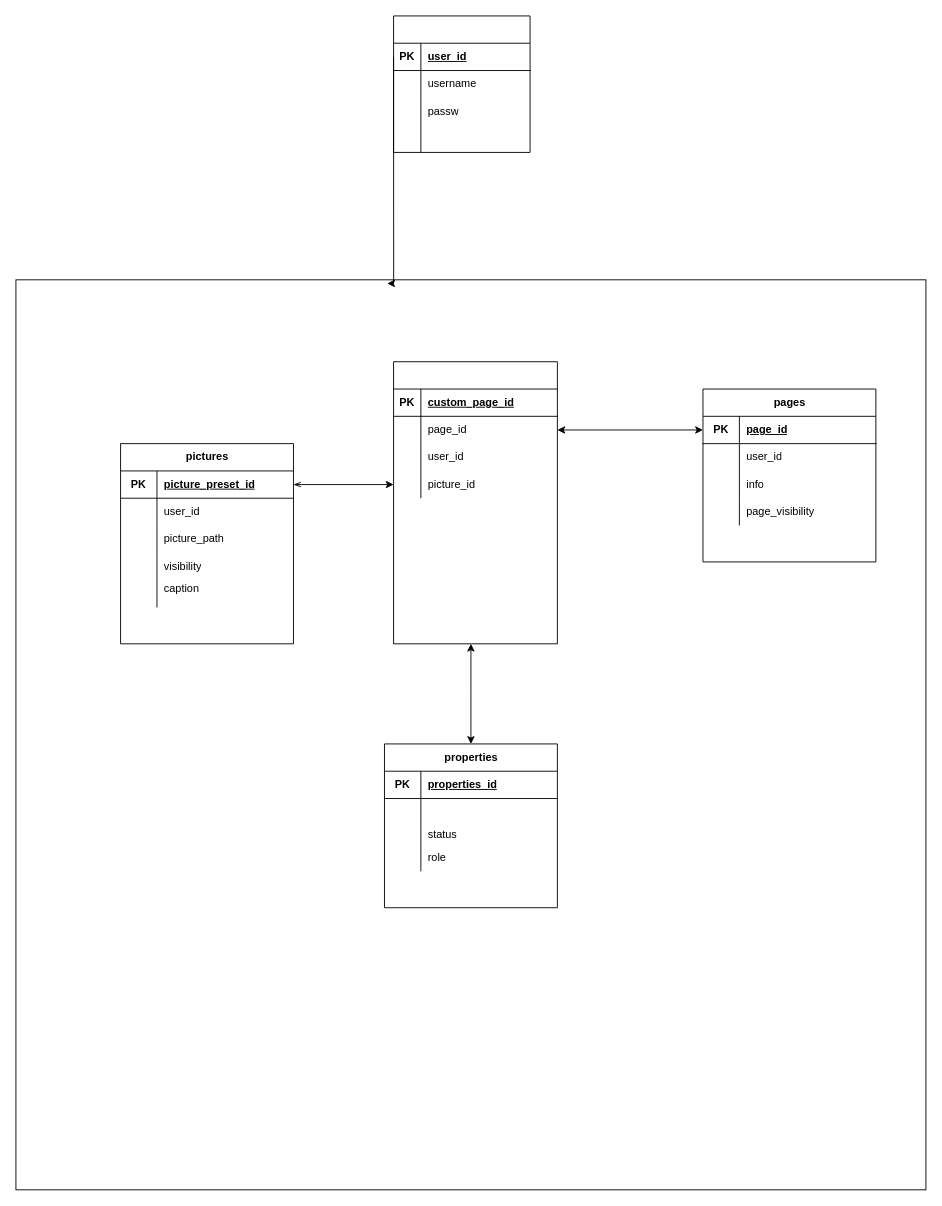
The diagram is 942 pixels wide and 1206 high, and some of its shapes have lost their labels. Each missing label, with the box of its shape:
users: (393, 15, 530, 152)
users_pages: (393, 361, 557, 644)
